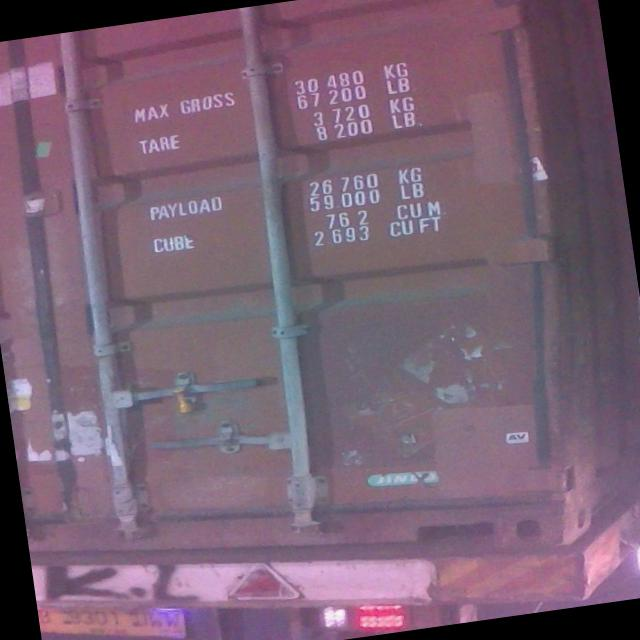seal: (168, 383, 209, 418)
